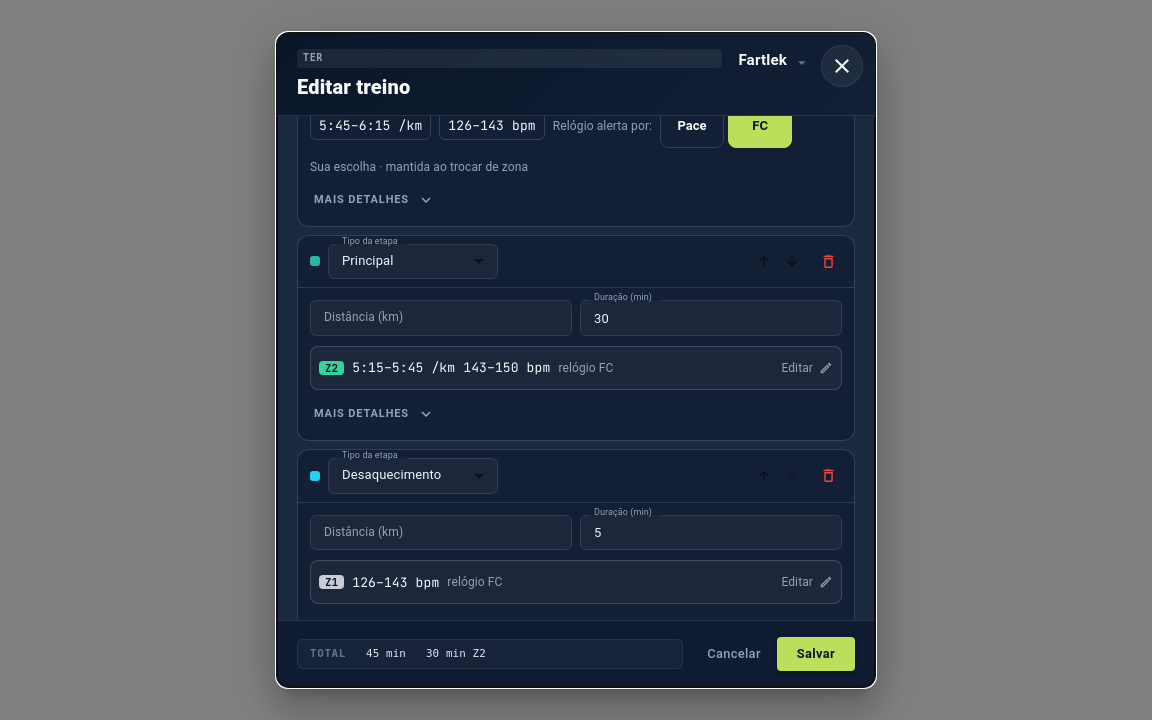
Test: TreinoEditDialog — zonas do atleta › zona predominante detalha os minutos por zona e o total mostra os minutos na zona alvo
This screenshot has width=1152, height=720.
(page scrolled)
Click the button with aria-label "editar intensidade — tipo da etapa 2".
click(576, 368)  # box [310,346,842,390]
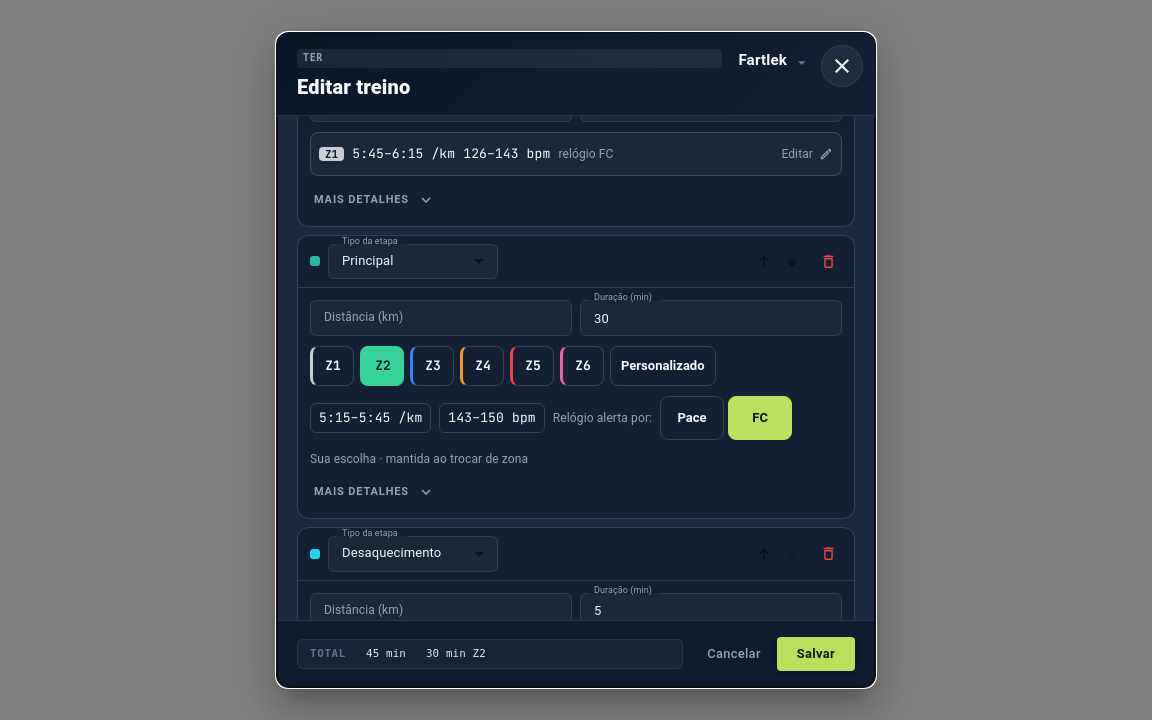
Click the radio button labelled "Z5".
click(532, 366)  # box [510,346,554,386]
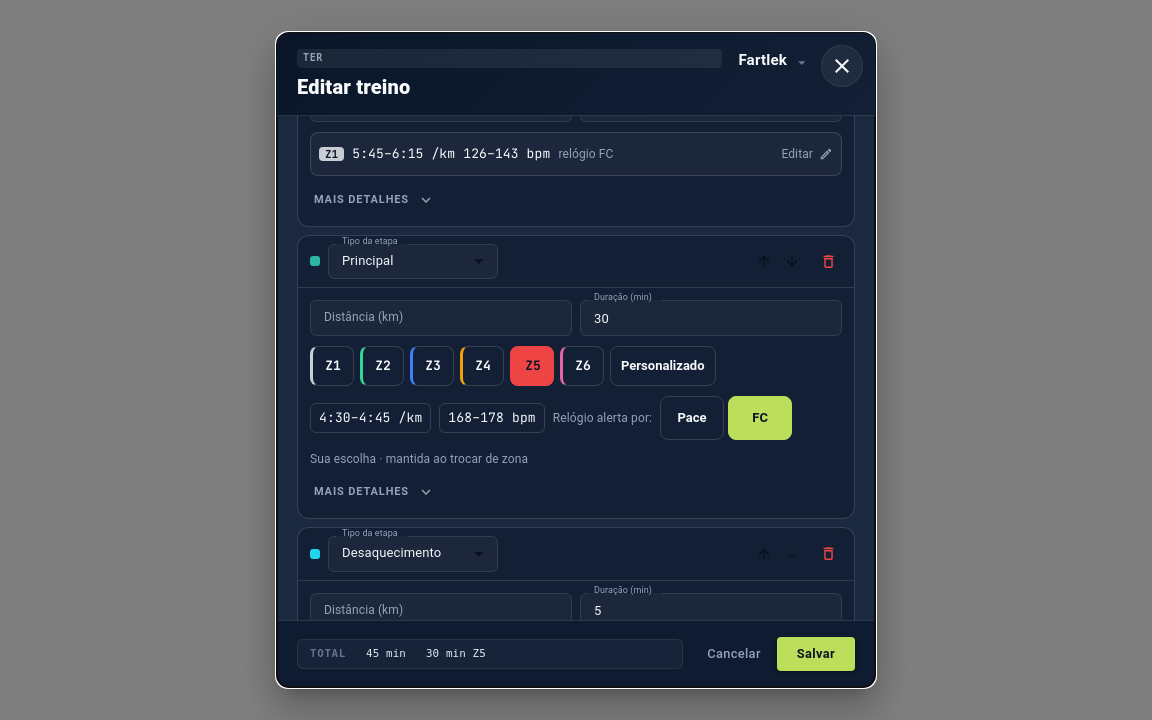
Expected: the text with test id "total-na-zona-alvo" reads "30 min Z5", [426,646,486,662]
